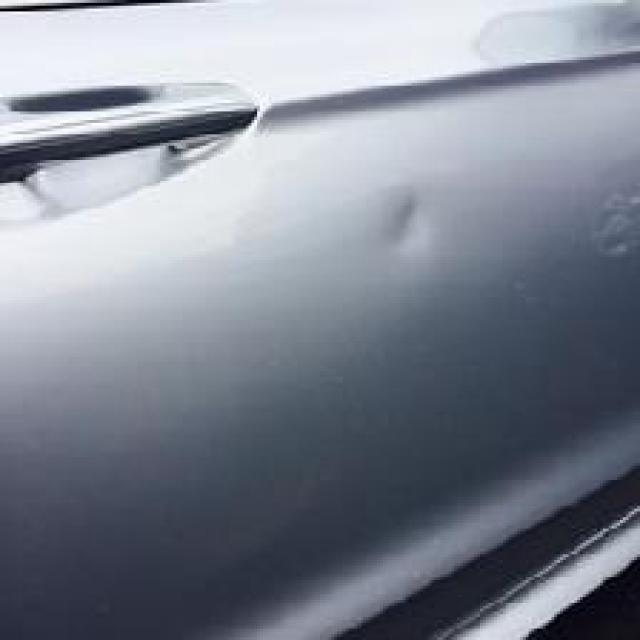damaged: (352, 174, 637, 280)
